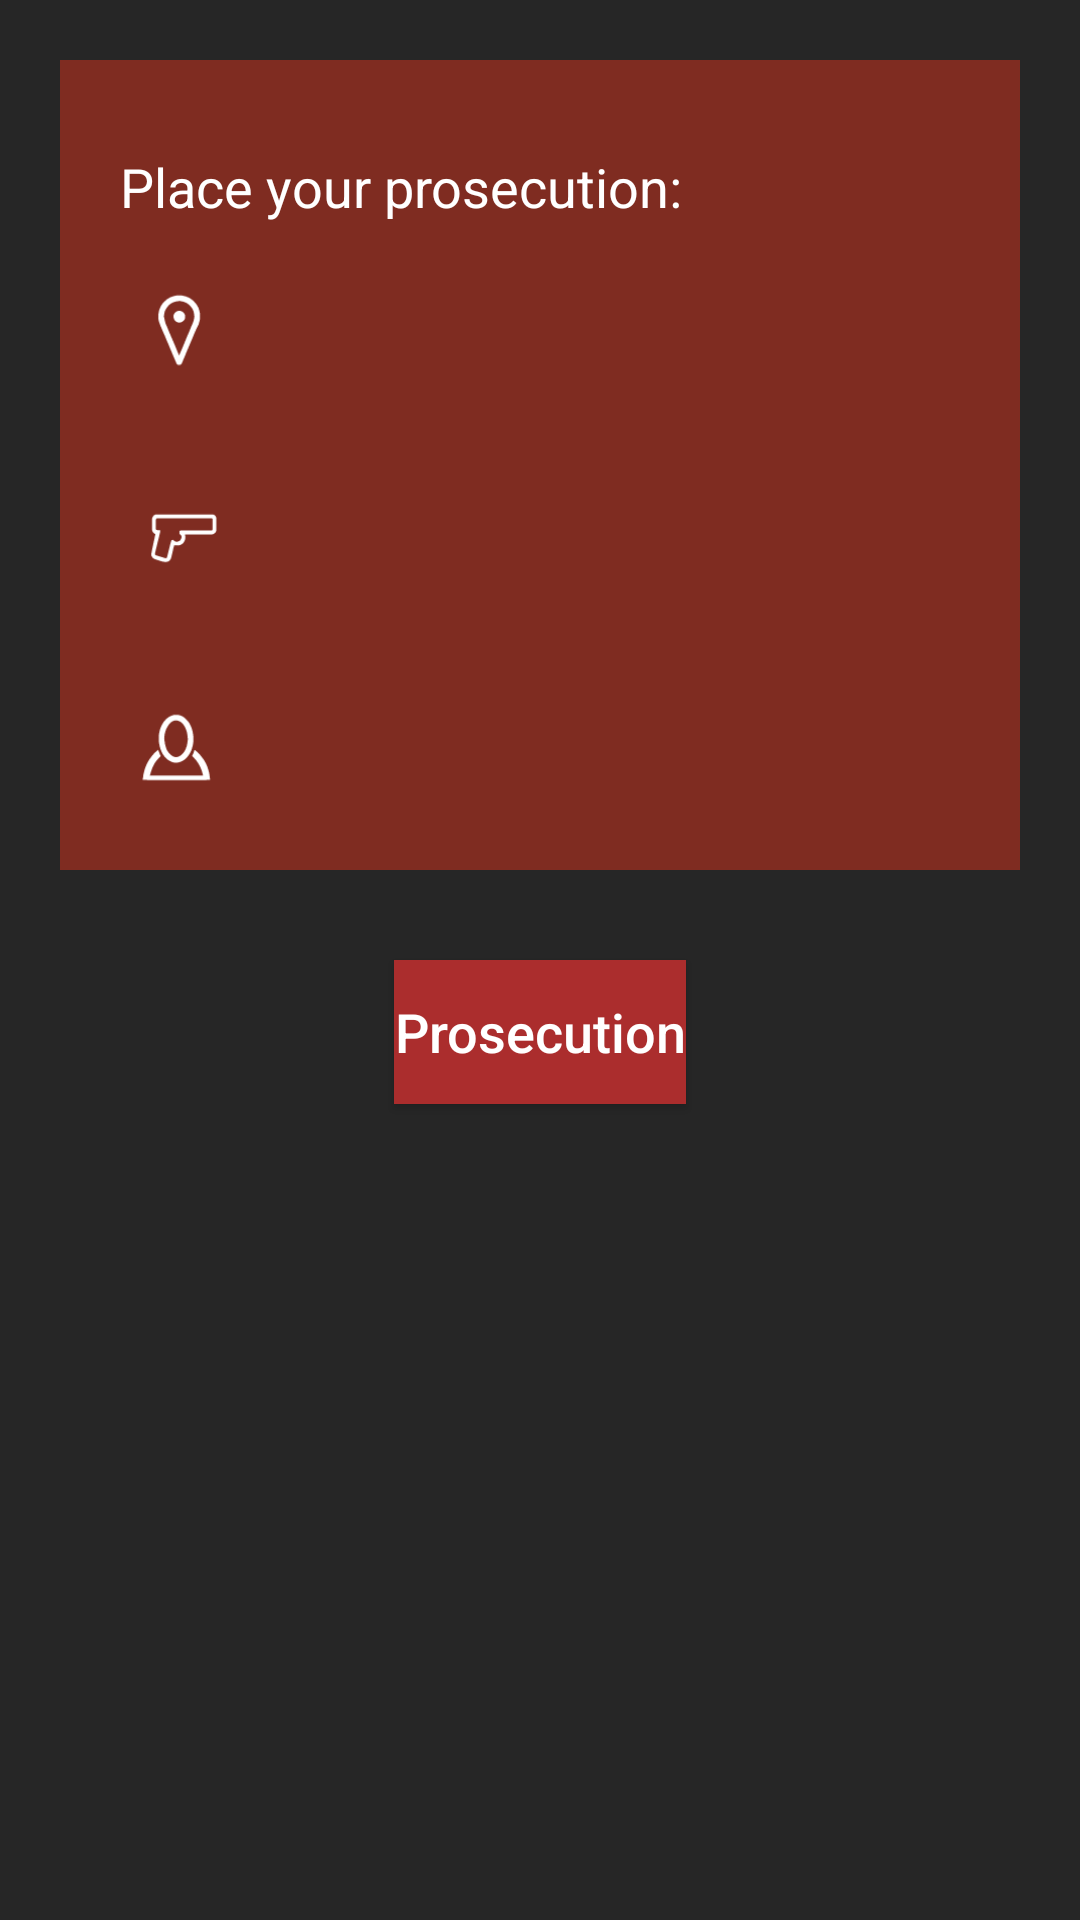

Screen size 1080×1920. Icon name, then its center in pixels as (x=x, y=y):
location: (x=179, y=330)
person: (x=176, y=747)
pistol: (x=184, y=538)
